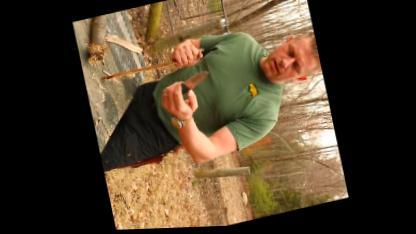knife: (154, 64, 218, 115)
